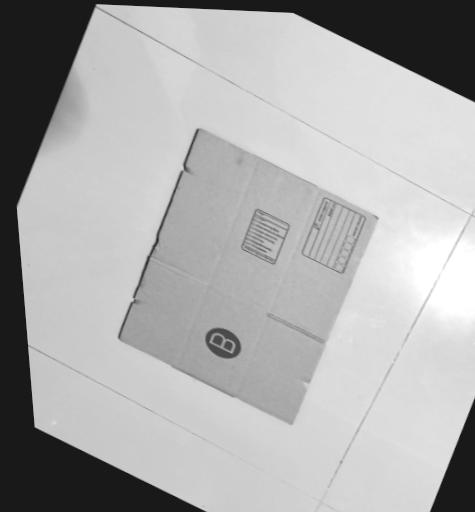box: (95, 121, 395, 434)
class0: (292, 192, 370, 276), (233, 206, 293, 268), (196, 320, 246, 364)
